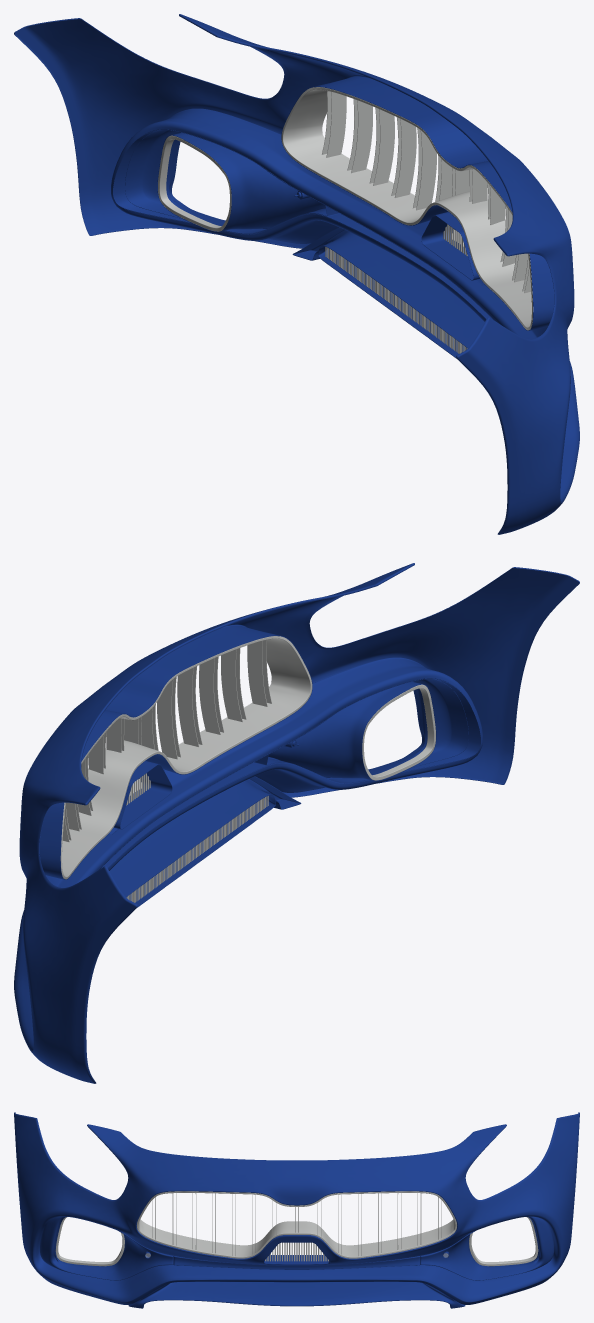
Rendered from bodyPart_bumper_front_d01.glb.
The picture shows the model from 3 angles, top to bottom: view 1: azimuth 30°, elevation 25°; view 2: azimuth 150°, elevation 25°; view 3: azimuth 270°, elevation 25°; orthographic projection. The views are drawn at different scales.
Parts seen in each view (by area): view 1: bumperFront_01_mesh_00; view 2: bumperFront_01_mesh_00; view 3: bumperFront_01_mesh_00.
Boxes of the visible parts, <box> form: bumperFront_01_mesh_00: <box>14,14,579,534</box>; bumperFront_01_mesh_00: <box>14,563,579,1083</box>; bumperFront_01_mesh_00: <box>14,1112,579,1308</box>.
Size of the model in its own units: 0.667 by 0.5999 by 2.01.
